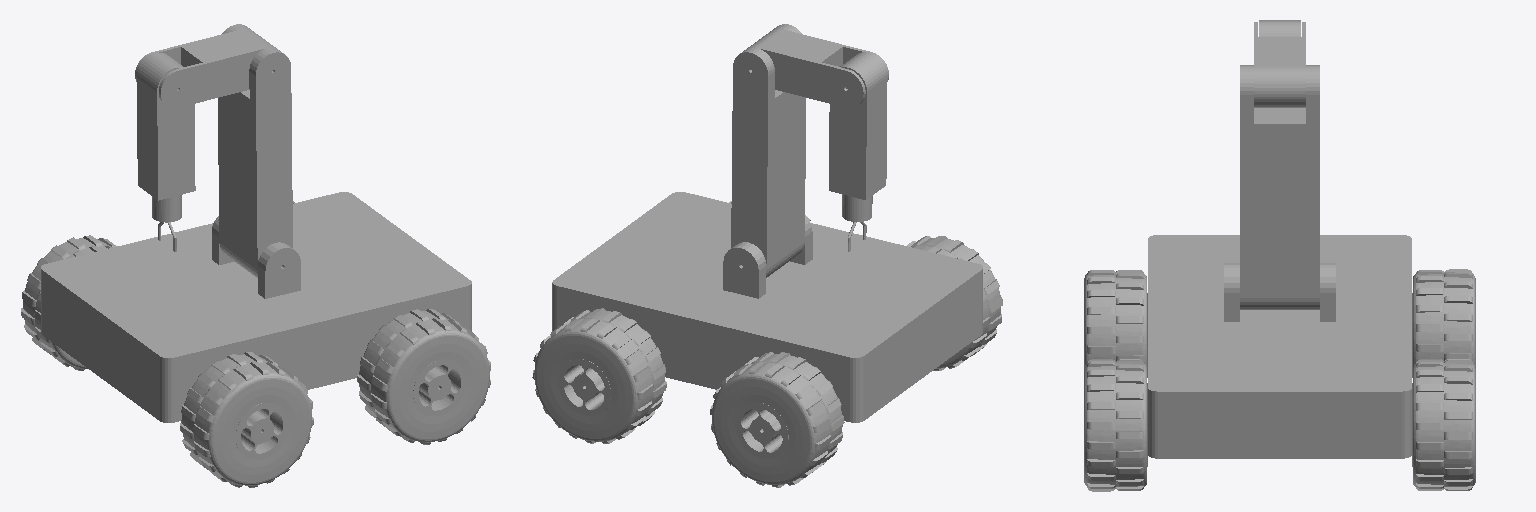
The robot description file, URDF, robot "robot":
<?xml version="1.0" ?>
<!-- =================================================================================== -->
<!-- |    This document was autogenerated by xacro from robot.xacro                    | -->
<!-- |    EDITING THIS FILE BY HAND IS NOT RECOMMENDED                                 | -->
<!-- =================================================================================== -->
<robot name="robot" xmlns:xacro="http://www.ros.org/wiki/xacro">
  <material name="silver">
    <color rgba="0.700 0.700 0.700 1.000"/>
  </material>
  <transmission name="revolucion4_tran">
    <type>transmission_interface/SimpleTransmission</type>
    <joint name="revolucion4">
      <hardwareInterface>hardware_interface/EffortJointInterface</hardwareInterface>
    </joint>
    <actuator name="revolucion4_actr">
      <hardwareInterface>hardware_interface/EffortJointInterface</hardwareInterface>
      <mechanicalReduction>1</mechanicalReduction>
    </actuator>
  </transmission>
  <transmission name="revolucion5_tran">
    <type>transmission_interface/SimpleTransmission</type>
    <joint name="revolucion5">
      <hardwareInterface>hardware_interface/EffortJointInterface</hardwareInterface>
    </joint>
    <actuator name="revolucion5_actr">
      <hardwareInterface>hardware_interface/EffortJointInterface</hardwareInterface>
      <mechanicalReduction>1</mechanicalReduction>
    </actuator>
  </transmission>
  <transmission name="corredera7_tran">
    <type>transmission_interface/SimpleTransmission</type>
    <joint name="corredera7">
      <hardwareInterface>hardware_interface/EffortJointInterface</hardwareInterface>
    </joint>
    <actuator name="corredera7_actr">
      <hardwareInterface>hardware_interface/EffortJointInterface</hardwareInterface>
      <mechanicalReduction>1</mechanicalReduction>
    </actuator>
  </transmission>
  <transmission name="revolucion12_tran">
    <type>transmission_interface/SimpleTransmission</type>
    <joint name="revolucion12">
      <hardwareInterface>hardware_interface/EffortJointInterface</hardwareInterface>
    </joint>
    <actuator name="revolucion12_actr">
      <hardwareInterface>hardware_interface/EffortJointInterface</hardwareInterface>
      <mechanicalReduction>1</mechanicalReduction>
    </actuator>
  </transmission>
  <transmission name="revolucion13_tran">
    <type>transmission_interface/SimpleTransmission</type>
    <joint name="revolucion13">
      <hardwareInterface>hardware_interface/EffortJointInterface</hardwareInterface>
    </joint>
    <actuator name="revolucion13_actr">
      <hardwareInterface>hardware_interface/EffortJointInterface</hardwareInterface>
      <mechanicalReduction>1</mechanicalReduction>
    </actuator>
  </transmission>
  <transmission name="revolucion14_tran">
    <type>transmission_interface/SimpleTransmission</type>
    <joint name="revolucion14">
      <hardwareInterface>hardware_interface/EffortJointInterface</hardwareInterface>
    </joint>
    <actuator name="revolucion14_actr">
      <hardwareInterface>hardware_interface/EffortJointInterface</hardwareInterface>
      <mechanicalReduction>1</mechanicalReduction>
    </actuator>
  </transmission>
  <transmission name="revolucion15_tran">
    <type>transmission_interface/SimpleTransmission</type>
    <joint name="revolucion15">
      <hardwareInterface>hardware_interface/EffortJointInterface</hardwareInterface>
    </joint>
    <actuator name="revolucion15_actr">
      <hardwareInterface>hardware_interface/EffortJointInterface</hardwareInterface>
      <mechanicalReduction>1</mechanicalReduction>
    </actuator>
  </transmission>
  <transmission name="revolucion16_tran">
    <type>transmission_interface/SimpleTransmission</type>
    <joint name="revolucion16">
      <hardwareInterface>hardware_interface/EffortJointInterface</hardwareInterface>
    </joint>
    <actuator name="revolucion16_actr">
      <hardwareInterface>hardware_interface/EffortJointInterface</hardwareInterface>
      <mechanicalReduction>1</mechanicalReduction>
    </actuator>
  </transmission>
  <gazebo>
    <plugin filename="libgazebo_ros_control.so" name="control"/>
  </gazebo>
  <gazebo reference="base_link">
    <material>Gazebo/Silver</material>
    <mu1>0.2</mu1>
    <mu2>0.2</mu2>
    <selfCollide>true</selfCollide>
    <gravity>true</gravity>
  </gazebo>
  <gazebo reference="link2_1">
    <material>Gazebo/Silver</material>
    <mu1>0.2</mu1>
    <mu2>0.2</mu2>
    <selfCollide>true</selfCollide>
  </gazebo>
  <gazebo reference="link3_1">
    <material>Gazebo/Silver</material>
    <mu1>0.2</mu1>
    <mu2>0.2</mu2>
    <selfCollide>true</selfCollide>
  </gazebo>
  <gazebo reference="efector_final_v6_1">
    <material>Gazebo/Silver</material>
    <mu1>0.2</mu1>
    <mu2>0.2</mu2>
    <selfCollide>true</selfCollide>
  </gazebo>
  <gazebo reference="link1_1">
    <material>Gazebo/Silver</material>
    <mu1>0.2</mu1>
    <mu2>0.2</mu2>
    <selfCollide>true</selfCollide>
  </gazebo>
  <gazebo reference="rueda_v6__2__1">
    <material>Gazebo/Silver</material>
    <mu1>0.2</mu1>
    <mu2>0.2</mu2>
    <selfCollide>true</selfCollide>
  </gazebo>
  <gazebo reference="rueda_v6__1__1">
    <material>Gazebo/Silver</material>
    <mu1>0.2</mu1>
    <mu2>0.2</mu2>
    <selfCollide>true</selfCollide>
  </gazebo>
  <gazebo reference="rueda_v6__4__1">
    <material>Gazebo/Silver</material>
    <mu1>0.2</mu1>
    <mu2>0.2</mu2>
    <selfCollide>true</selfCollide>
  </gazebo>
  <gazebo reference="rueda_v6__3__1">
    <material>Gazebo/Silver</material>
    <mu1>0.2</mu1>
    <mu2>0.2</mu2>
    <selfCollide>true</selfCollide>
  </gazebo>
  <link name="base_link">
    <inertial>
      <origin rpy="0 0 0" xyz="0.0003127797995900869 0.0014327057821856926 0.0951674253043274"/>
      <mass value="7.008262743982289"/>
      <inertia ixx="0.040031" ixy="-0.0" ixz="-0.0" iyy="0.07458" iyz="0.0" izz="0.10706"/>
    </inertial>
    <visual>
      <origin rpy="0 0 0" xyz="0 0 0"/>
      <geometry>
        <mesh filename="package://robot_description/meshes/base_link.stl" scale="0.001 0.001 0.001"/>
      </geometry>
      <material name="silver"/>
    </visual>
    <collision>
      <origin rpy="0 0 0" xyz="0 0 0"/>
      <geometry>
        <mesh filename="package://robot_description/meshes/base_link.stl" scale="0.001 0.001 0.001"/>
      </geometry>
    </collision>
  </link>
  <link name="link2_1">
    <inertial>
      <origin rpy="0 0 0" xyz="-0.03229264415707544 -0.025000294217811414 -0.00034814089413653937"/>
      <mass value="1.4547119584951695"/>
      <inertia ixx="0.000525" ixy="0.0" ixz="-1.2e-05" iyy="0.001495" iyz="-0.0" izz="0.00165"/>
    </inertial>
    <visual>
      <origin rpy="0 0 0" xyz="0.001951 -0.026433 -0.367671"/>
      <geometry>
        <mesh filename="package://robot_description/meshes/link2_1.stl" scale="0.001 0.001 0.001"/>
      </geometry>
      <material name="silver"/>
    </visual>
    <collision>
      <origin rpy="0 0 0" xyz="0.001951 -0.026433 -0.367671"/>
      <geometry>
        <mesh filename="package://robot_description/meshes/link2_1.stl" scale="0.001 0.001 0.001"/>
      </geometry>
    </collision>
  </link>
  <link name="link3_1">
    <inertial>
      <origin rpy="0 0 0" xyz="0.0004440114557990038 -0.021100294217810664 -0.04120921448902315"/>
      <mass value="1.3348529203290616"/>
      <inertia ixx="0.002173" ixy="-0.0" ixz="1.9e-05" iyy="0.00219" iyz="-0.0" izz="0.000438"/>
    </inertial>
    <visual>
      <origin rpy="0 0 0" xyz="0.101945 -0.022433 -0.366593"/>
      <geometry>
        <mesh filename="package://robot_description/meshes/link3_1.stl" scale="0.001 0.001 0.001"/>
      </geometry>
      <material name="silver"/>
    </visual>
    <collision>
      <origin rpy="0 0 0" xyz="0.101945 -0.022433 -0.366593"/>
      <geometry>
        <mesh filename="package://robot_description/meshes/link3_1.stl" scale="0.001 0.001 0.001"/>
      </geometry>
    </collision>
  </link>
  <link name="efector_final_v6_1">
    <inertial>
      <origin rpy="0 0 0" xyz="0.0005770733659765659 -2.9421638739245484e-07 -0.05355220008651834"/>
      <mass value="0.07732126904271316"/>
      <inertia ixx="7.9e-05" ixy="-0.0" ixz="1e-06" iyy="7.9e-05" iyz="0.0" izz="8e-06"/>
    </inertial>
    <visual>
      <origin rpy="0 0 0" xyz="0.101503 -0.001333 -0.325595"/>
      <geometry>
        <mesh filename="package://robot_description/meshes/efector_final_v6_1.stl" scale="0.001 0.001 0.001"/>
      </geometry>
      <material name="silver"/>
    </visual>
    <collision>
      <origin rpy="0 0 0" xyz="0.101503 -0.001333 -0.325595"/>
      <geometry>
        <mesh filename="package://robot_description/meshes/efector_final_v6_1.stl" scale="0.001 0.001 0.001"/>
      </geometry>
    </collision>
  </link>
  <link name="link1_1">
    <inertial>
      <origin rpy="0 0 0" xyz="-0.0009802435587231363 -0.037500294217812744 0.090904175831996"/>
      <mass value="4.957865445681325"/>
      <inertia ixx="0.022105" ixy="-0.0" ixz="0.000204" iyy="0.020243" iyz="0.0" izz="0.003158"/>
    </inertial>
    <visual>
      <origin rpy="0 0 0" xyz="-0.000313 -0.038933 -0.157683"/>
      <geometry>
        <mesh filename="package://robot_description/meshes/link1_1.stl" scale="0.001 0.001 0.001"/>
      </geometry>
      <material name="silver"/>
    </visual>
    <collision>
      <origin rpy="0 0 0" xyz="-0.000313 -0.038933 -0.157683"/>
      <geometry>
        <mesh filename="package://robot_description/meshes/link1_1.stl" scale="0.001 0.001 0.001"/>
      </geometry>
    </collision>
  </link>
  <link name="rueda_v6__2__1">
    <inertial>
      <origin rpy="0 0 0" xyz="-3.8017618496366534e-07 0.030007553460228265 2.3750010800604383e-07"/>
      <mass value="0.24963094558243556"/>
      <inertia ixx="0.000325" ixy="0.0" ixz="0.0" iyy="0.000482" iyz="0.0" izz="0.000325"/>
    </inertial>
    <visual>
      <origin rpy="0 0 0" xyz="-0.100313 -0.126433 -0.062683"/>
      <geometry>
        <mesh filename="package://robot_description/meshes/rueda_v6__2__1.stl" scale="0.001 0.001 0.001"/>
      </geometry>
      <material name="silver"/>
    </visual>
    <collision>
      <origin rpy="0 0 0" xyz="-0.100313 -0.126433 -0.062683"/>
      <geometry>
        <mesh filename="package://robot_description/meshes/rueda_v6__2__1.stl" scale="0.001 0.001 0.001"/>
      </geometry>
    </collision>
  </link>
  <link name="rueda_v6__1__1">
    <inertial>
      <origin rpy="0 0 0" xyz="-3.8217626732728327e-07 0.030007553460233594 3.949807601683064e-07"/>
      <mass value="0.24963094558243573"/>
      <inertia ixx="0.000325" ixy="0.0" ixz="-0.0" iyy="0.000482" iyz="-0.0" izz="0.000325"/>
    </inertial>
    <visual>
      <origin rpy="0 0 0" xyz="0.099687 -0.126433 -0.062683"/>
      <geometry>
        <mesh filename="package://robot_description/meshes/rueda_v6__1__1.stl" scale="0.001 0.001 0.001"/>
      </geometry>
      <material name="silver"/>
    </visual>
    <collision>
      <origin rpy="0 0 0" xyz="0.099687 -0.126433 -0.062683"/>
      <geometry>
        <mesh filename="package://robot_description/meshes/rueda_v6__1__1.stl" scale="0.001 0.001 0.001"/>
      </geometry>
    </collision>
  </link>
  <link name="rueda_v6__4__1">
    <inertial>
      <origin rpy="0 0 0" xyz="-1.870377545482027e-07 -0.030008141895863413 -4.469378613036756e-08"/>
      <mass value="0.24963094558243856"/>
      <inertia ixx="0.000325" ixy="-0.0" ixz="0.0" iyy="0.000482" iyz="-0.0" izz="0.000325"/>
    </inertial>
    <visual>
      <origin rpy="0 0 0" xyz="-0.100313 0.123567 -0.062683"/>
      <geometry>
        <mesh filename="package://robot_description/meshes/rueda_v6__4__1.stl" scale="0.001 0.001 0.001"/>
      </geometry>
      <material name="silver"/>
    </visual>
    <collision>
      <origin rpy="0 0 0" xyz="-0.100313 0.123567 -0.062683"/>
      <geometry>
        <mesh filename="package://robot_description/meshes/rueda_v6__4__1.stl" scale="0.001 0.001 0.001"/>
      </geometry>
    </collision>
  </link>
  <link name="rueda_v6__3__1">
    <inertial>
      <origin rpy="0 0 0" xyz="-4.6450394160235664e-07 -0.030008141895858223 1.4778860908670755e-07"/>
      <mass value="0.24963094558243595"/>
      <inertia ixx="0.000325" ixy="-0.0" ixz="-0.0" iyy="0.000482" iyz="0.0" izz="0.000325"/>
    </inertial>
    <visual>
      <origin rpy="0 0 0" xyz="0.099687 0.123567 -0.062683"/>
      <geometry>
        <mesh filename="package://robot_description/meshes/rueda_v6__3__1.stl" scale="0.001 0.001 0.001"/>
      </geometry>
      <material name="silver"/>
    </visual>
    <collision>
      <origin rpy="0 0 0" xyz="0.099687 0.123567 -0.062683"/>
      <geometry>
        <mesh filename="package://robot_description/meshes/rueda_v6__3__1.stl" scale="0.001 0.001 0.001"/>
      </geometry>
    </collision>
  </link>
  <joint name="revolucion4" type="revolute">
    <origin rpy="0 0 0" xyz="-0.002264 -0.0125 0.209988"/>
    <parent link="link1_1"/>
    <child link="link2_1"/>
    <axis xyz="0.0 -1.0 0.0"/>
    <limit effort="100" lower="-3.141593" upper="0.261799" velocity="100"/>
  </joint>
  <joint name="revolucion5" type="revolute">
    <origin rpy="0 0 0" xyz="-0.099994 -0.004 -0.001078"/>
    <parent link="link2_1"/>
    <child link="link3_1"/>
    <axis xyz="-0.0 -1.0 0.0"/>
    <limit effort="100" lower="-3.141593" upper="0.261799" velocity="100"/>
  </joint>
  <joint name="corredera7" type="prismatic">
    <origin rpy="0 0 0" xyz="0.000442 -0.0211 -0.040998"/>
    <parent link="link3_1"/>
    <child link="efector_final_v6_1"/>
    <axis xyz="0.01078 0.0 -0.999942"/>
    <limit effort="100" lower="0.0" upper="0.05" velocity="100"/>
  </joint>
  <joint name="revolucion12" type="revolute">
    <origin rpy="0 0 0" xyz="0.000313 0.038933 0.157683"/>
    <parent link="base_link"/>
    <child link="link1_1"/>
    <axis xyz="0.0 -1.0 0.0"/>
    <limit effort="100" lower="-0.959931" upper="0.959931" velocity="100"/>
  </joint>
  <joint name="revolucion13" type="continuous">
    <origin rpy="0 0 0" xyz="0.100313 0.126433 0.062683"/>
    <parent link="base_link"/>
    <child link="rueda_v6__2__1"/>
    <axis xyz="-0.0 1.0 -0.0"/>
  </joint>
  <joint name="revolucion14" type="continuous">
    <origin rpy="0 0 0" xyz="-0.099687 0.126433 0.062683"/>
    <parent link="base_link"/>
    <child link="rueda_v6__1__1"/>
    <axis xyz="-0.0 1.0 -0.0"/>
  </joint>
  <joint name="revolucion15" type="continuous">
    <origin rpy="0 0 0" xyz="0.100313 -0.123567 0.062683"/>
    <parent link="base_link"/>
    <child link="rueda_v6__4__1"/>
    <axis xyz="-0.0 1.0 -0.0"/>
  </joint>
  <joint name="revolucion16" type="continuous">
    <origin rpy="0 0 0" xyz="-0.099687 -0.123567 0.062683"/>
    <parent link="base_link"/>
    <child link="rueda_v6__3__1"/>
    <axis xyz="-0.0 1.0 -0.0"/>
  </joint>
</robot>

--- What the picture shows (computed from the rendered views, not written in the file) ---
Views: 3 orthographic renders of the robot side by side, from view 1: azimuth 30°, elevation 25°; view 2: azimuth 150°, elevation 25°; view 3: azimuth 270°, elevation 25°.
Robot: robot — 9 links, 8 joints (3 revolute, 4 continuous, 1 prismatic); root link base_link; default pose: all joints at 0.
Links seen in each view (by area): view 1: base_link, link1_1, rueda_v6__4__1, rueda_v6__3__1, link3_1, link2_1, rueda_v6__1__1, efector_final_v6_1; view 2: base_link, link1_1, rueda_v6__2__1, rueda_v6__1__1, link3_1, link2_1, rueda_v6__3__1, efector_final_v6_1; view 3: base_link, link1_1, rueda_v6__4__1, rueda_v6__2__1, rueda_v6__1__1, rueda_v6__3__1, link2_1, link3_1.
Link boxes in pixels (bbox=[...]): base_link: bbox=[41, 192, 471, 422]; link1_1: bbox=[218, 24, 292, 277]; rueda_v6__4__1: bbox=[357, 309, 490, 444]; rueda_v6__3__1: bbox=[180, 352, 313, 487]; link3_1: bbox=[137, 53, 195, 200]; link2_1: bbox=[135, 29, 276, 107]; rueda_v6__1__1: bbox=[21, 235, 116, 370]; efector_final_v6_1: bbox=[152, 195, 181, 251]; base_link: bbox=[552, 192, 982, 422]; link1_1: bbox=[731, 24, 805, 277]; rueda_v6__2__1: bbox=[532, 308, 666, 443]; rueda_v6__1__1: bbox=[710, 352, 844, 487]; link3_1: bbox=[829, 52, 887, 199]; link2_1: bbox=[747, 29, 888, 107]; rueda_v6__3__1: bbox=[907, 236, 1002, 370]; efector_final_v6_1: bbox=[842, 194, 872, 251]; base_link: bbox=[1148, 235, 1411, 458]; link1_1: bbox=[1240, 65, 1319, 309]; rueda_v6__4__1: bbox=[1084, 359, 1147, 491]; rueda_v6__2__1: bbox=[1412, 359, 1475, 490]; rueda_v6__1__1: bbox=[1412, 269, 1475, 377]; rueda_v6__3__1: bbox=[1084, 270, 1147, 377]; link2_1: bbox=[1254, 22, 1305, 107]; link3_1: bbox=[1259, 20, 1300, 36].
Size in the robot's own frame: 0.35 by 0.37 by 0.3876 metres.
9 mesh visuals loaded from 9 distinct referenced files (9 binary STL).